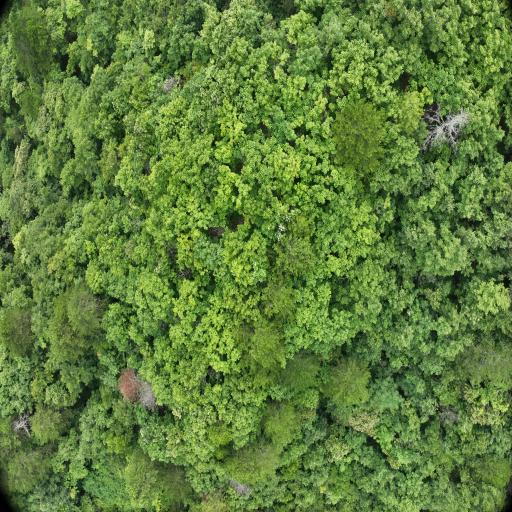dead-tree: (426, 112, 460, 138), (142, 384, 152, 407), (14, 419, 28, 433), (231, 481, 247, 493)
sick-tree: (121, 373, 134, 403)
